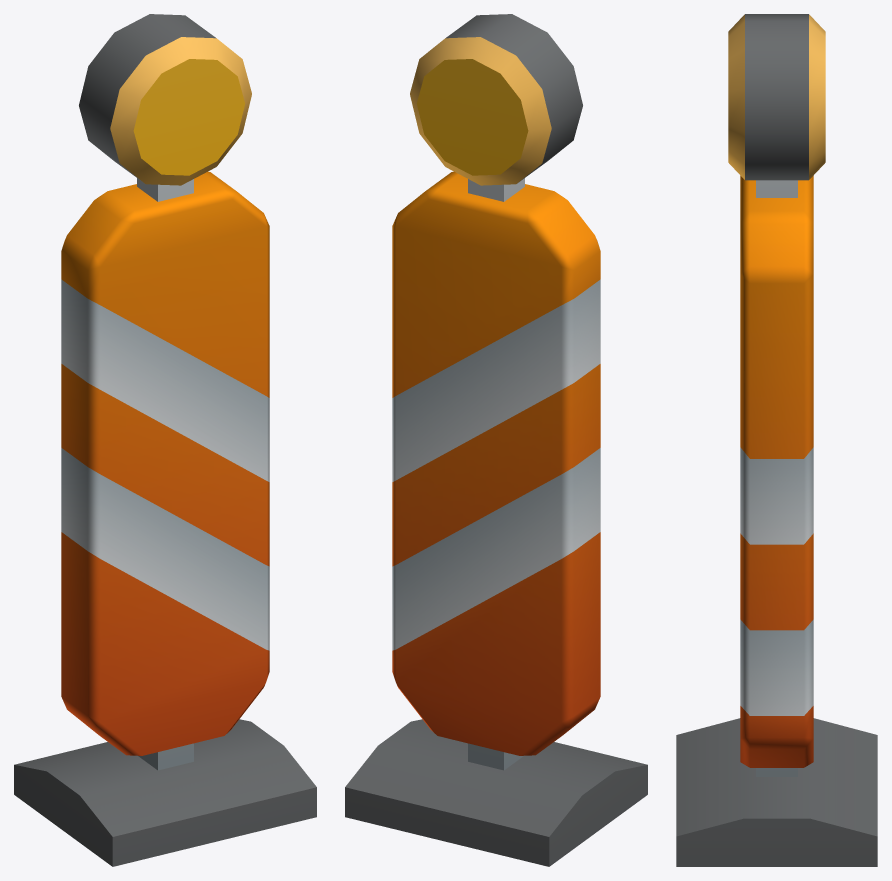
File: Barrier_07.fbx
3 views of the same model, side by side, from view 1: azimuth 30°, elevation 25°; view 2: azimuth 150°, elevation 25°; view 3: azimuth 270°, elevation 25° (orthographic).
Visible parts, largest first — view 1: Barrier_07; view 2: Barrier_07; view 3: Barrier_07.
Part boxes in pixels (left/top/right/bottom): Barrier_07: left=14, top=14, right=316, bottom=866; Barrier_07: left=345, top=14, right=647, bottom=866; Barrier_07: left=676, top=14, right=877, bottom=866.
Bounding box in the file's own units: 45.83 × 38.38 × 167.
